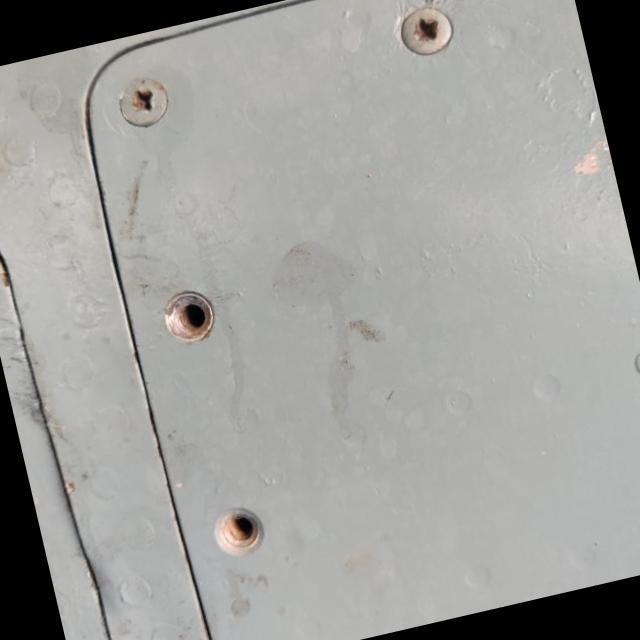Fastener Damage: (155, 439, 318, 607), (112, 232, 270, 400)
